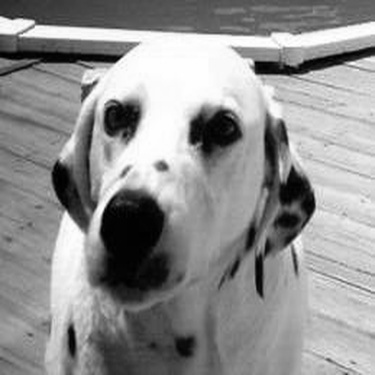dog: (22, 28, 328, 374)
